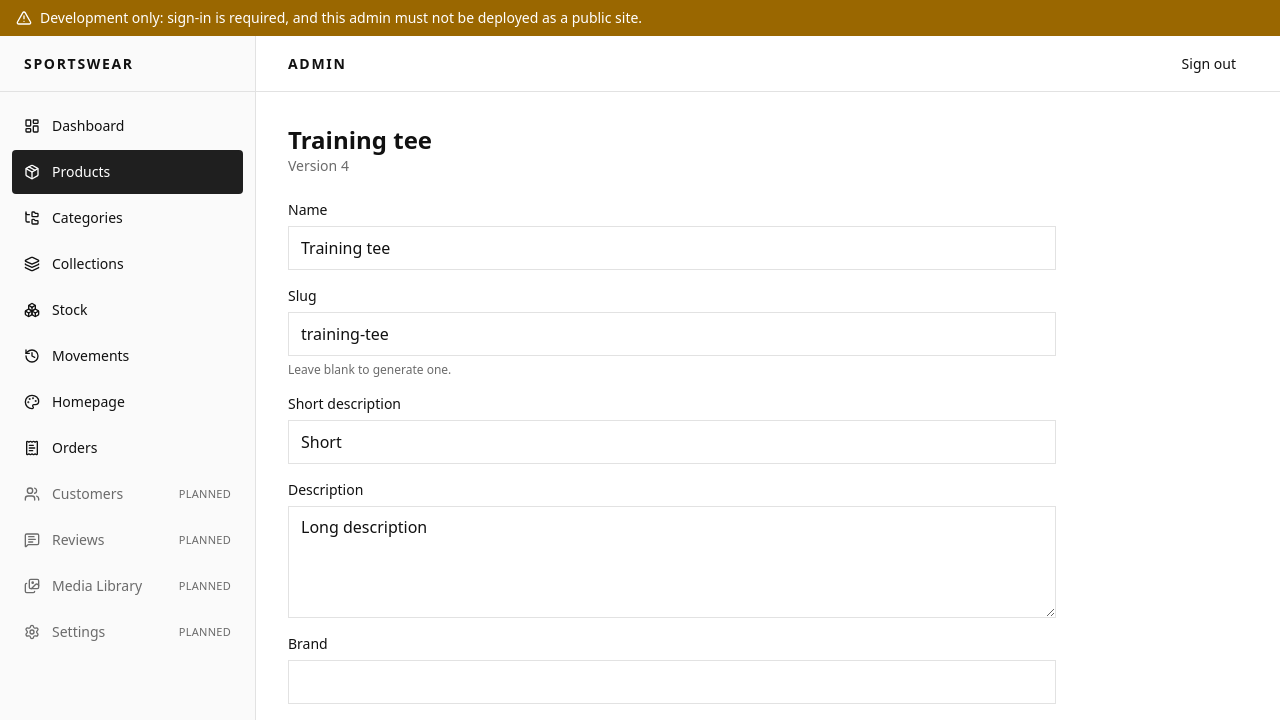
Test: catalogue administration › asks before leaving a dirty product
Replace the text in the field labelled "Name" with "Changed tee" at (672, 248), box x1=288 y1=226 x2=1056 y2=270
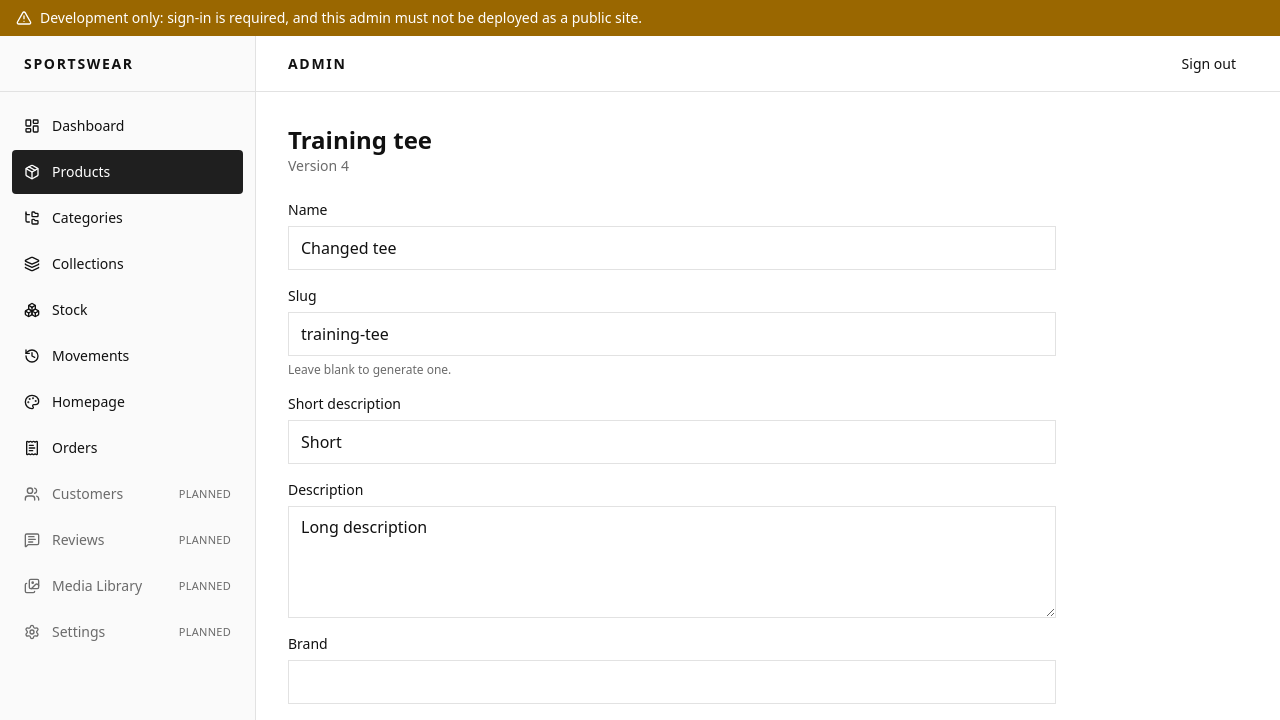
Click the link "Products" at (128, 172), box x1=12 y1=150 x2=243 y2=194
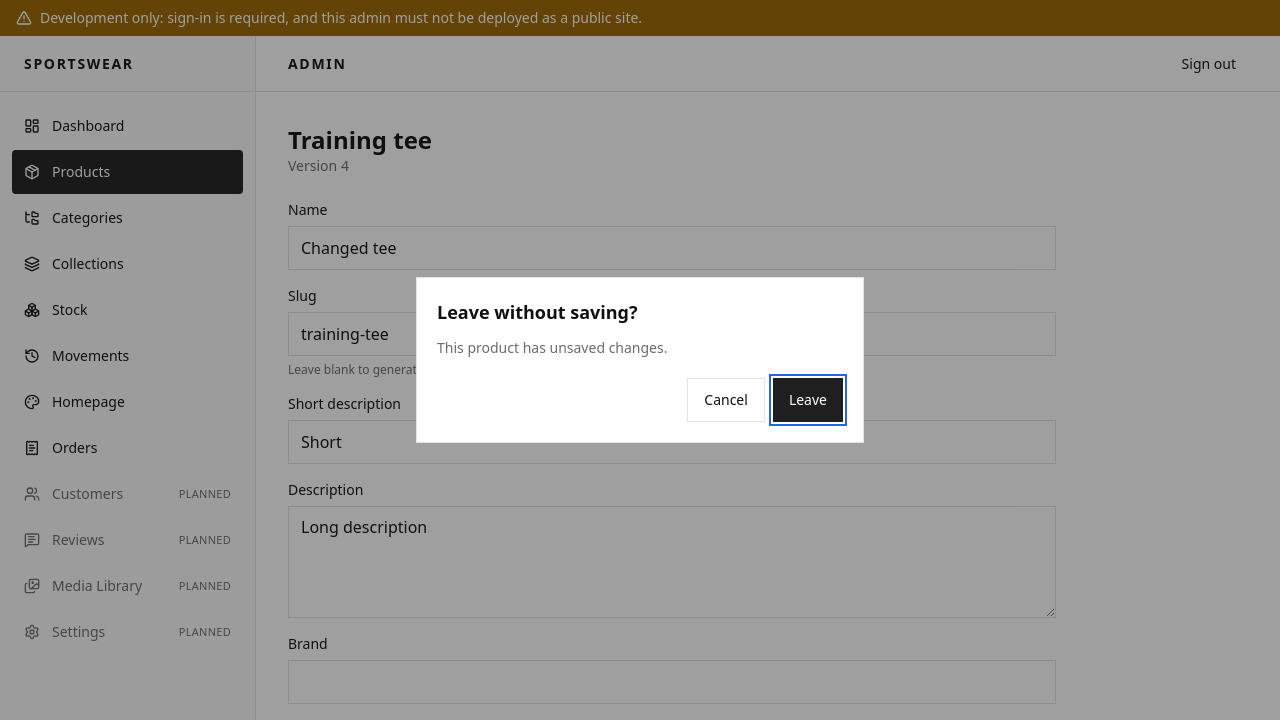
Expected: the dialog "Leave without saving?" is shown, x1=416 y1=277 x2=864 y2=443
